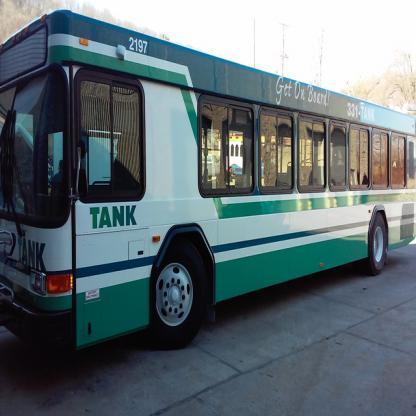Bus: (0, 9, 415, 352)
